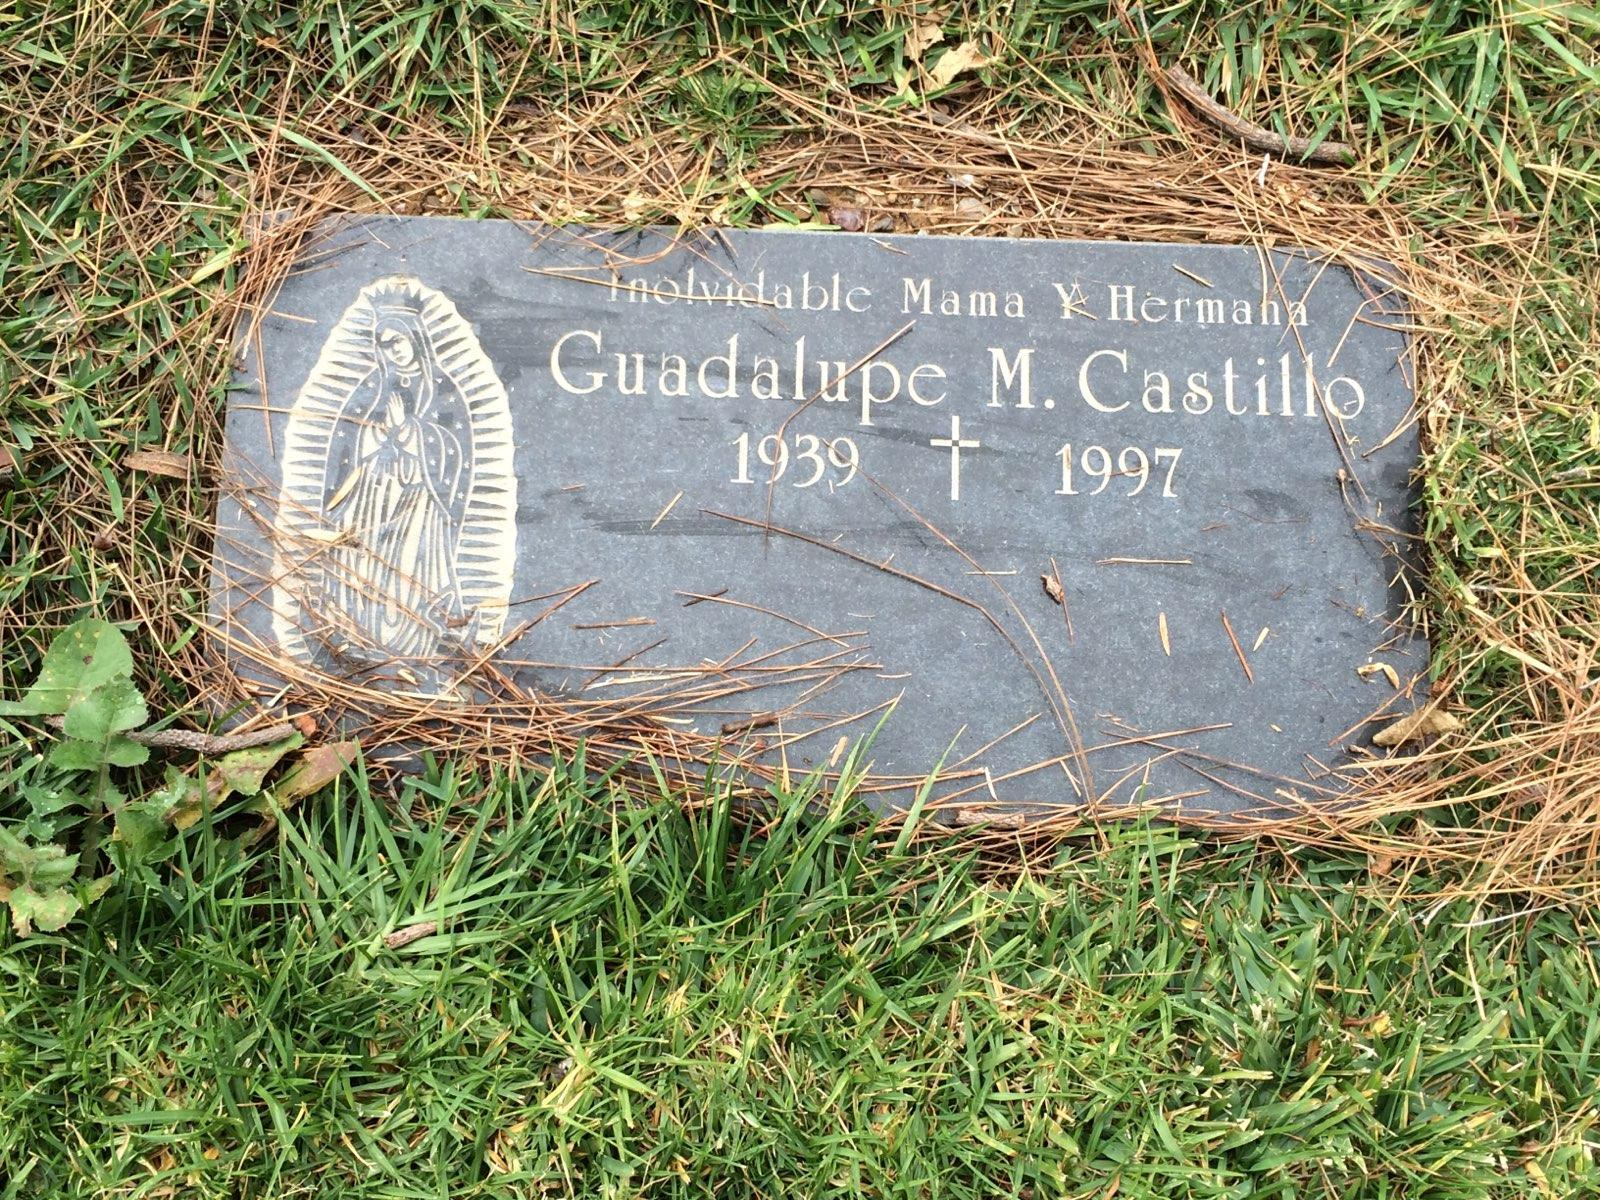flat: (191, 192, 1448, 866)
